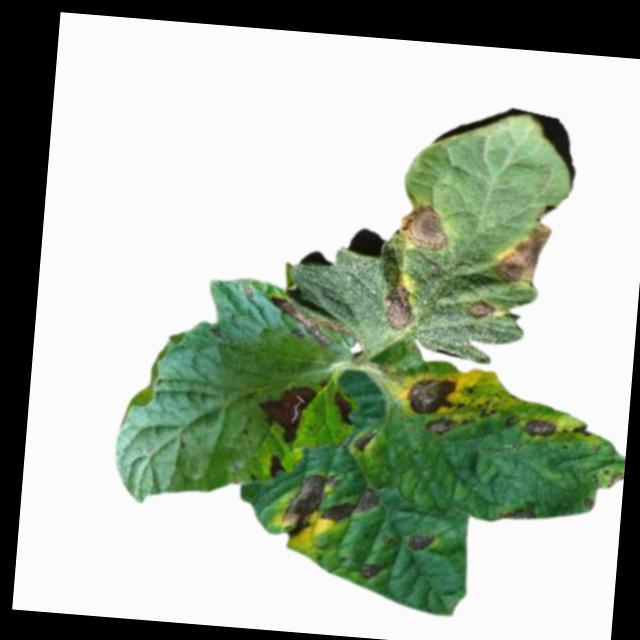Early_blight: (485, 218, 555, 287), (267, 296, 354, 349), (254, 383, 318, 449), (279, 471, 337, 539), (392, 200, 453, 254), (404, 371, 463, 419), (321, 484, 380, 529), (380, 282, 418, 333), (407, 529, 440, 557), (496, 503, 539, 524), (424, 416, 463, 439), (521, 417, 558, 441), (331, 391, 354, 427), (465, 298, 497, 321), (359, 561, 390, 583), (267, 454, 284, 479), (569, 421, 592, 438)
